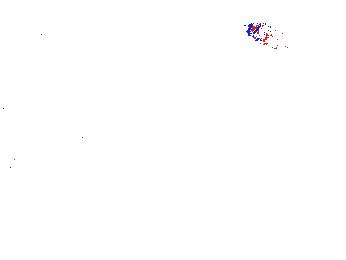X-ray fish: (242, 19, 296, 54), (284, 137, 320, 167)
glassfish: (194, 125, 300, 186), (3, 87, 78, 145)
